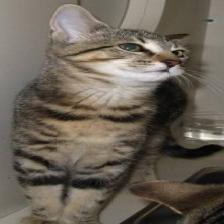cat: (38, 3, 207, 87)
